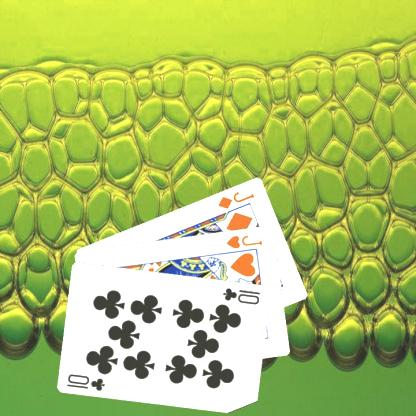10C: (220, 284, 262, 306), (64, 371, 106, 392)
JD: (215, 188, 256, 210)
JH: (223, 232, 264, 250)
